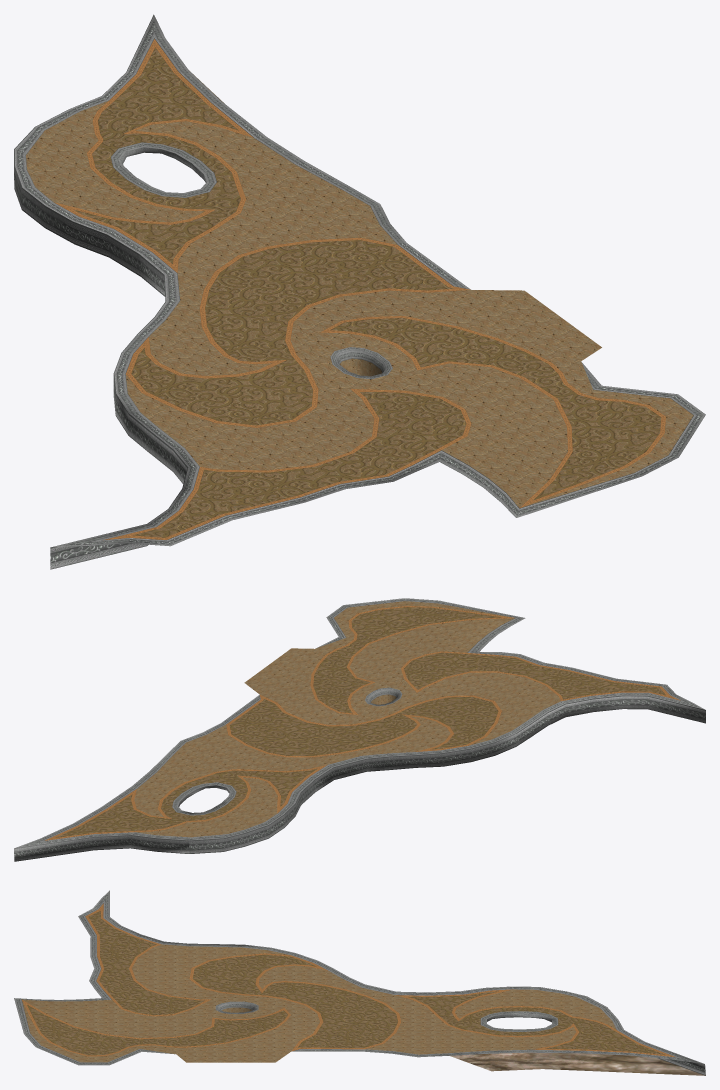
File: EKH_BARRELROOM_PS_JA1_OBJECT000H1.fbx
3 views of the same model, one above another, from view 1: azimuth 30°, elevation 25°; view 2: azimuth 150°, elevation 25°; view 3: azimuth 270°, elevation 25° (orthographic). The views are drawn at different scales.
Parts seen in each view (by area): view 1: EKH_BARRELROOM_PS_JA1_OBJECT000H1; view 2: EKH_BARRELROOM_PS_JA1_OBJECT000H1; view 3: EKH_BARRELROOM_PS_JA1_OBJECT000H1.
Part boxes in pixels (x1=…): EKH_BARRELROOM_PS_JA1_OBJECT000H1: x1=14, y1=14, x2=705, y2=569; EKH_BARRELROOM_PS_JA1_OBJECT000H1: x1=14, y1=598, x2=705, y2=861; EKH_BARRELROOM_PS_JA1_OBJECT000H1: x1=14, y1=890, x2=705, y2=1075.
Size of the model in its own units: 130000 by 12185 by 217096.
Materials: 5 (5 with a texture image).
